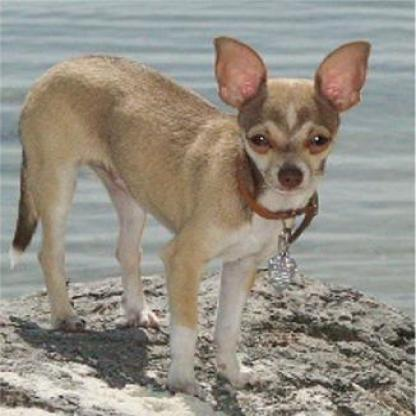Mexican_hairless: (8, 32, 370, 399)
